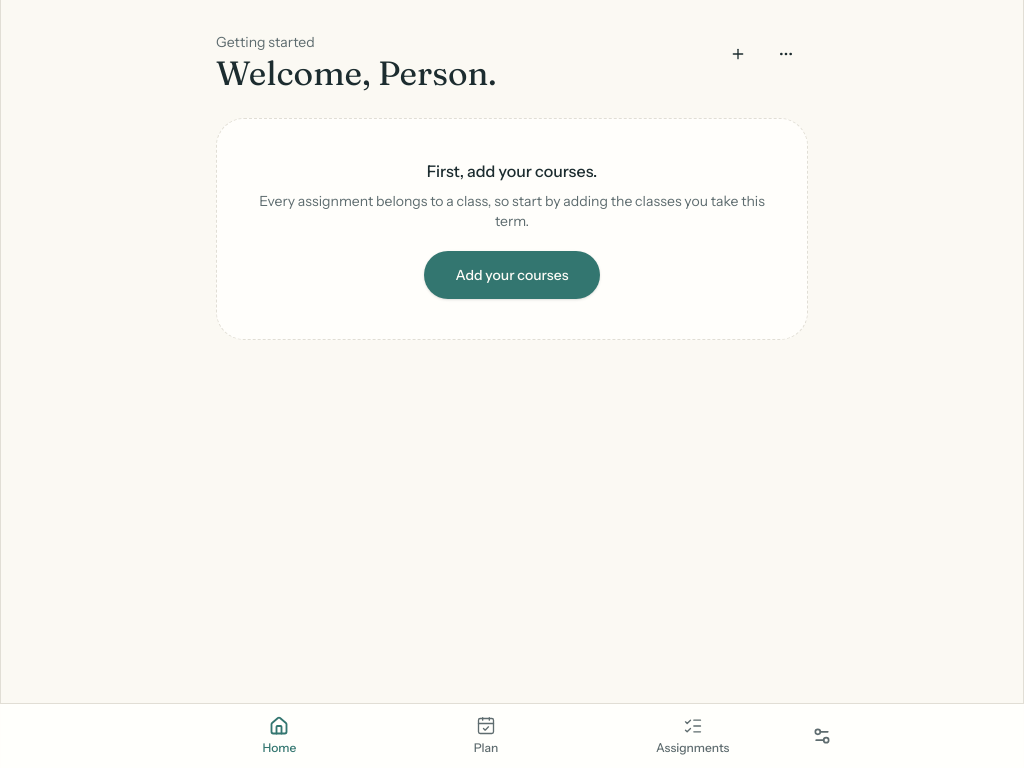
it: App › the Plan tab opens on today's plan when today already has one
What coordinates should you click on to do the following:
click the button "Plan"
I would click on:
 (486, 736)
Its box is left=383, top=704, right=589, bottom=767.
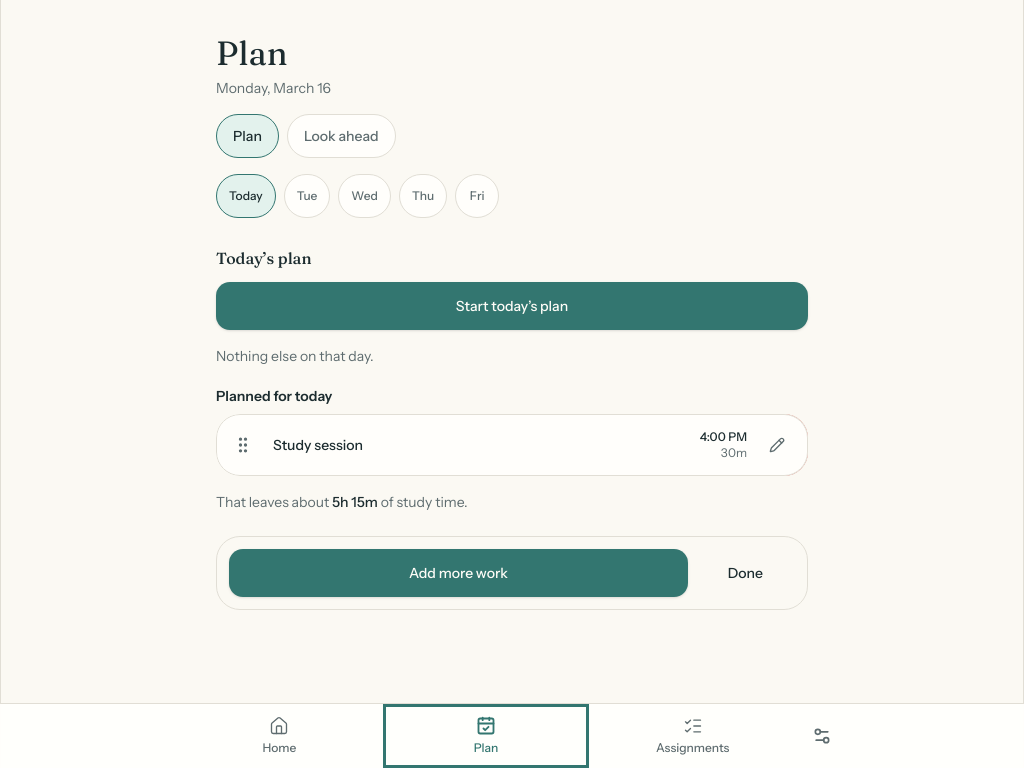
Result: the heading "Today’s plan" is shown at left=216, top=248, right=312, bottom=268
Result: the button "Add more work" is shown at left=229, top=549, right=688, bottom=597
